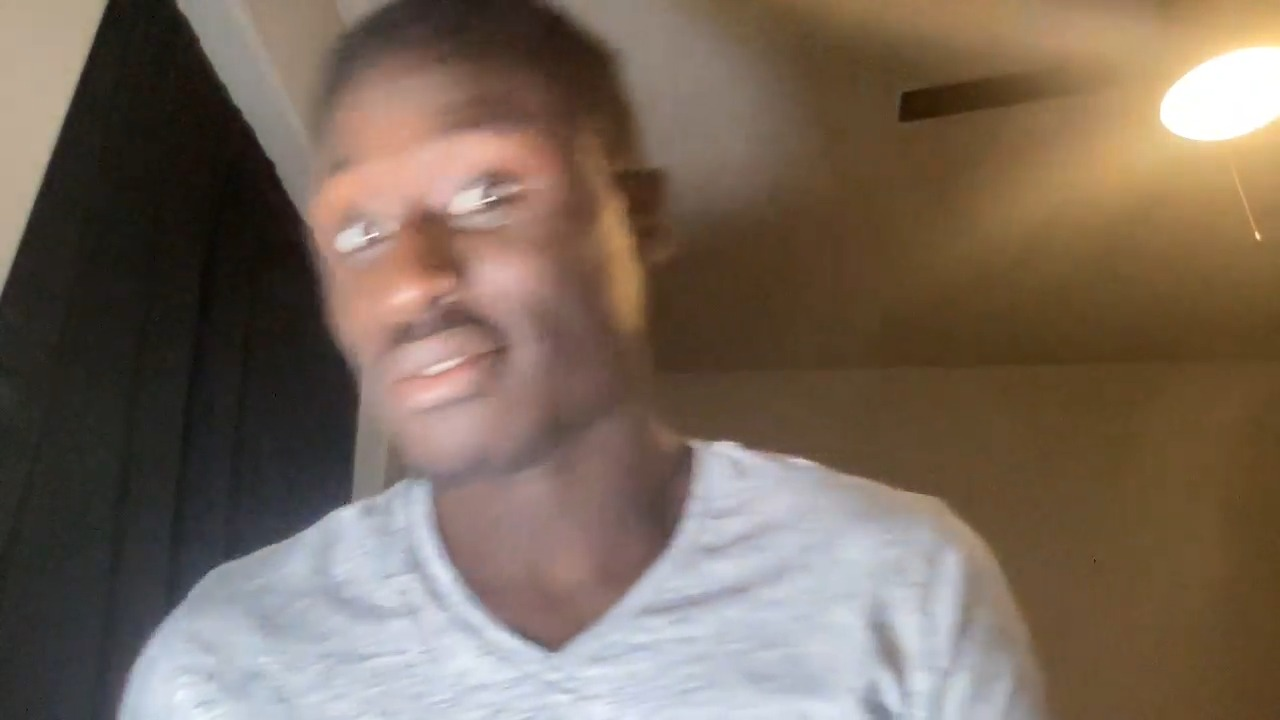face: (306, 2, 671, 491)
